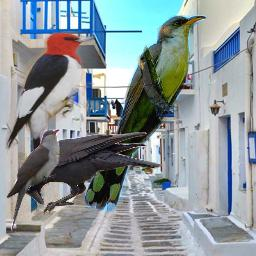Crow: (20, 132, 164, 216)
Cuckoo: (85, 15, 206, 212), (6, 129, 60, 233)
Woodpecker: (5, 31, 96, 179)
